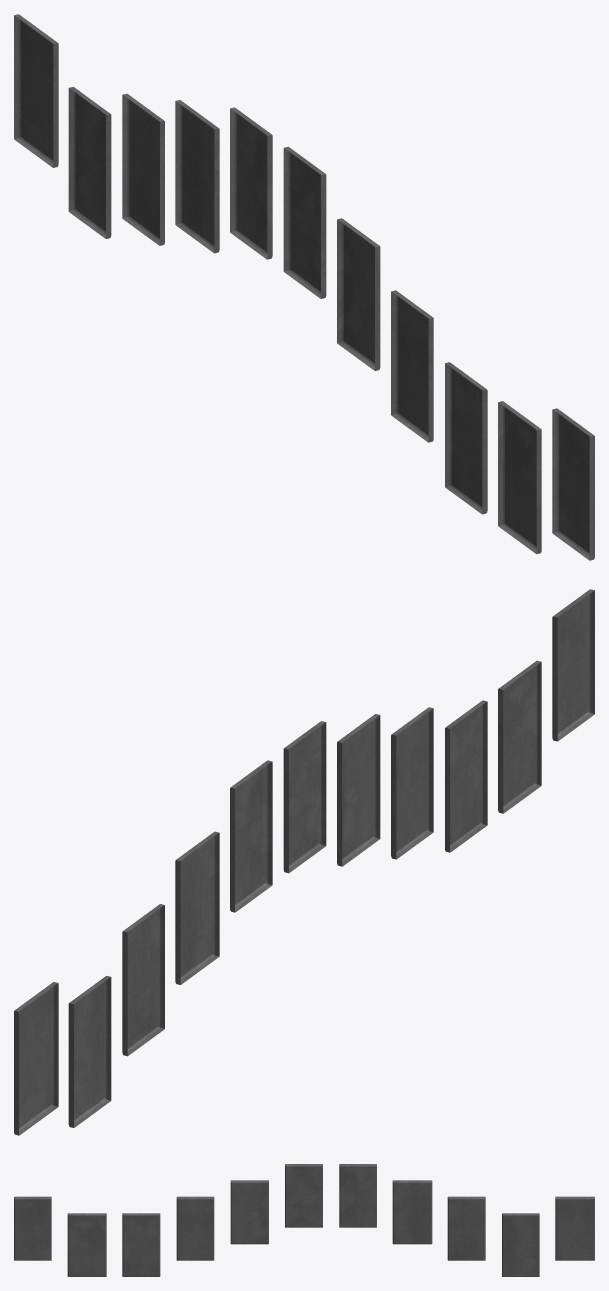
Rendered from cP_Pathway03_SteppingStoneLong_Comb02.dae.
3 views of the same model, one above another, from view 1: azimuth 30°, elevation 25°; view 2: azimuth 150°, elevation 25°; view 3: azimuth 270°, elevation 25° (orthographic). The views are drawn at different scales.
Visible parts, largest first — view 1: cP_Pathway03_SteppingStoneLong_Comb02.001; view 2: cP_Pathway03_SteppingStoneLong_Comb02.001; view 3: cP_Pathway03_SteppingStoneLong_Comb02.001.
Part boxes in pixels (x1,y1,x2,y2): cP_Pathway03_SteppingStoneLong_Comb02.001: (14, 14, 594, 560); cP_Pathway03_SteppingStoneLong_Comb02.001: (14, 589, 594, 1135); cP_Pathway03_SteppingStoneLong_Comb02.001: (14, 1164, 594, 1276).
Bounding box in the file's own units: 0.0499 × 8.04 × 1.71.
